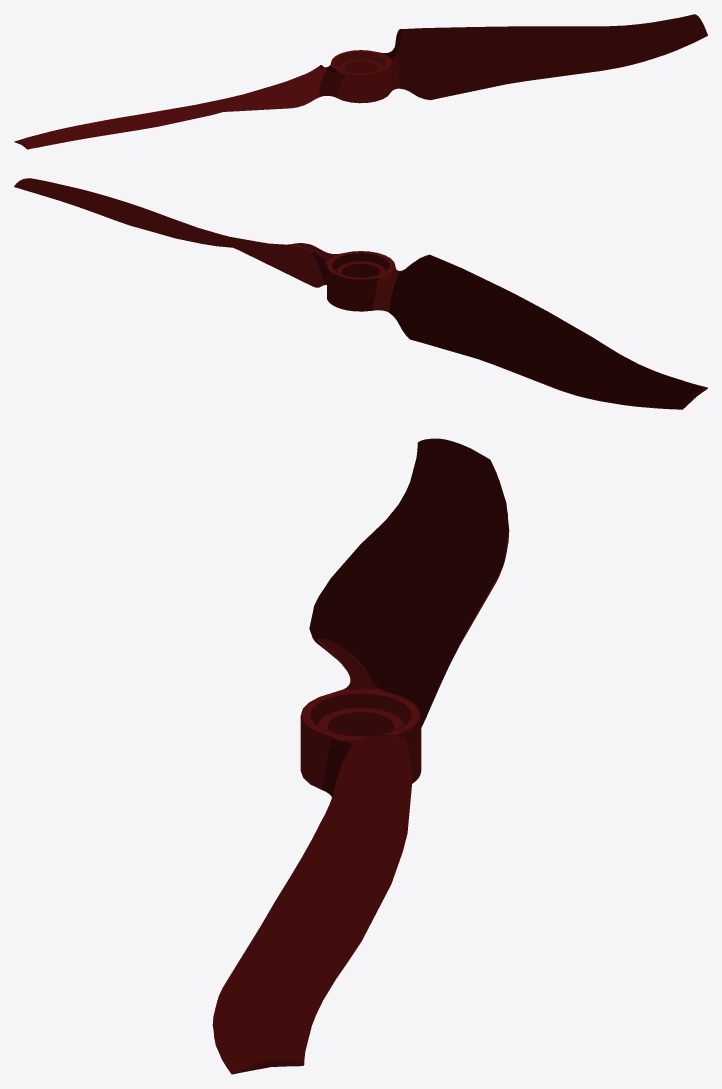
Rendered from default_propeller_3x2_ccw.dae.
3 views of the same model, one above another, from view 1: azimuth 30°, elevation 25°; view 2: azimuth 150°, elevation 25°; view 3: azimuth 270°, elevation 25° (orthographic). The views are drawn at different scales.
Visible parts, largest first — view 1: node0; view 2: node0; view 3: node0.
Boxes of the visible parts, box(x1,y1,x2,y2) form: node0: box(14, 14, 707, 149); node0: box(14, 178, 707, 409); node0: box(212, 438, 509, 1074).
Size of the model in its own units: 75.97 by 15.3 by 6.3.
